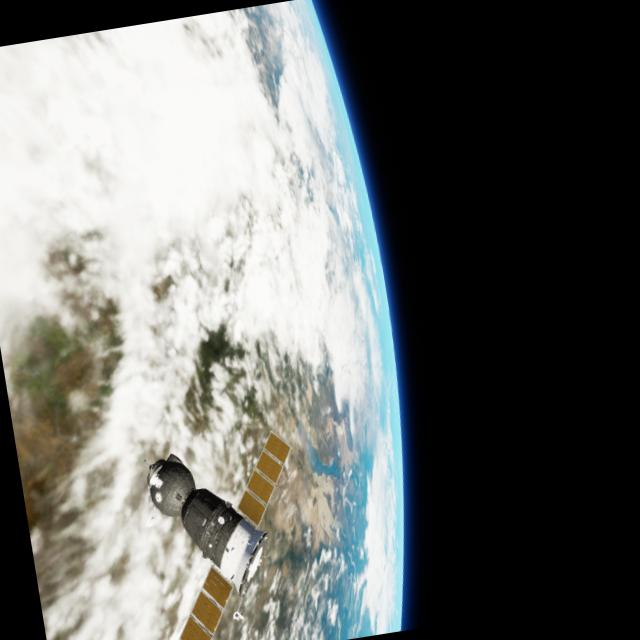Satellites revolving around earth: (0, 0, 440, 640), (128, 425, 323, 640)
